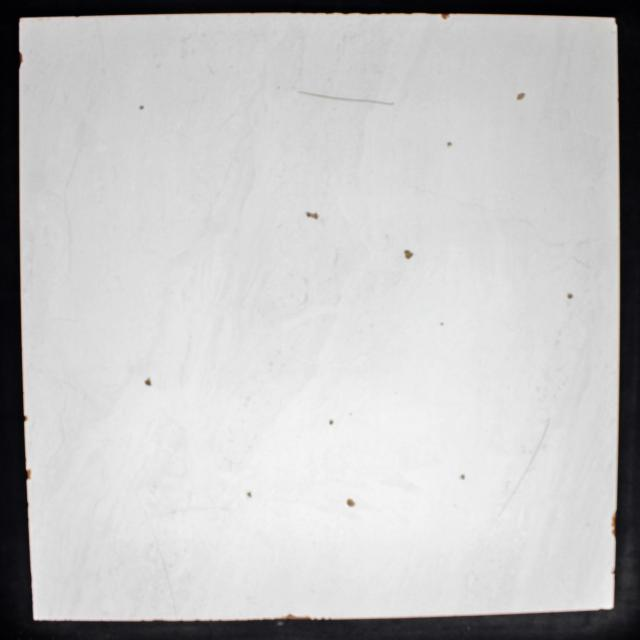edge-chipping: (283, 614, 311, 620), (612, 512, 616, 536), (18, 52, 23, 70), (26, 469, 31, 481), (441, 14, 449, 20), (23, 415, 28, 422)
hole: (306, 212, 318, 220), (404, 250, 414, 259), (347, 499, 355, 507), (517, 93, 525, 100), (146, 378, 152, 387), (567, 293, 573, 299), (446, 142, 452, 147), (460, 474, 466, 479), (247, 492, 252, 497), (328, 420, 334, 424), (140, 106, 144, 110)
line: (495, 419, 551, 518), (155, 532, 176, 620), (298, 91, 394, 106)
